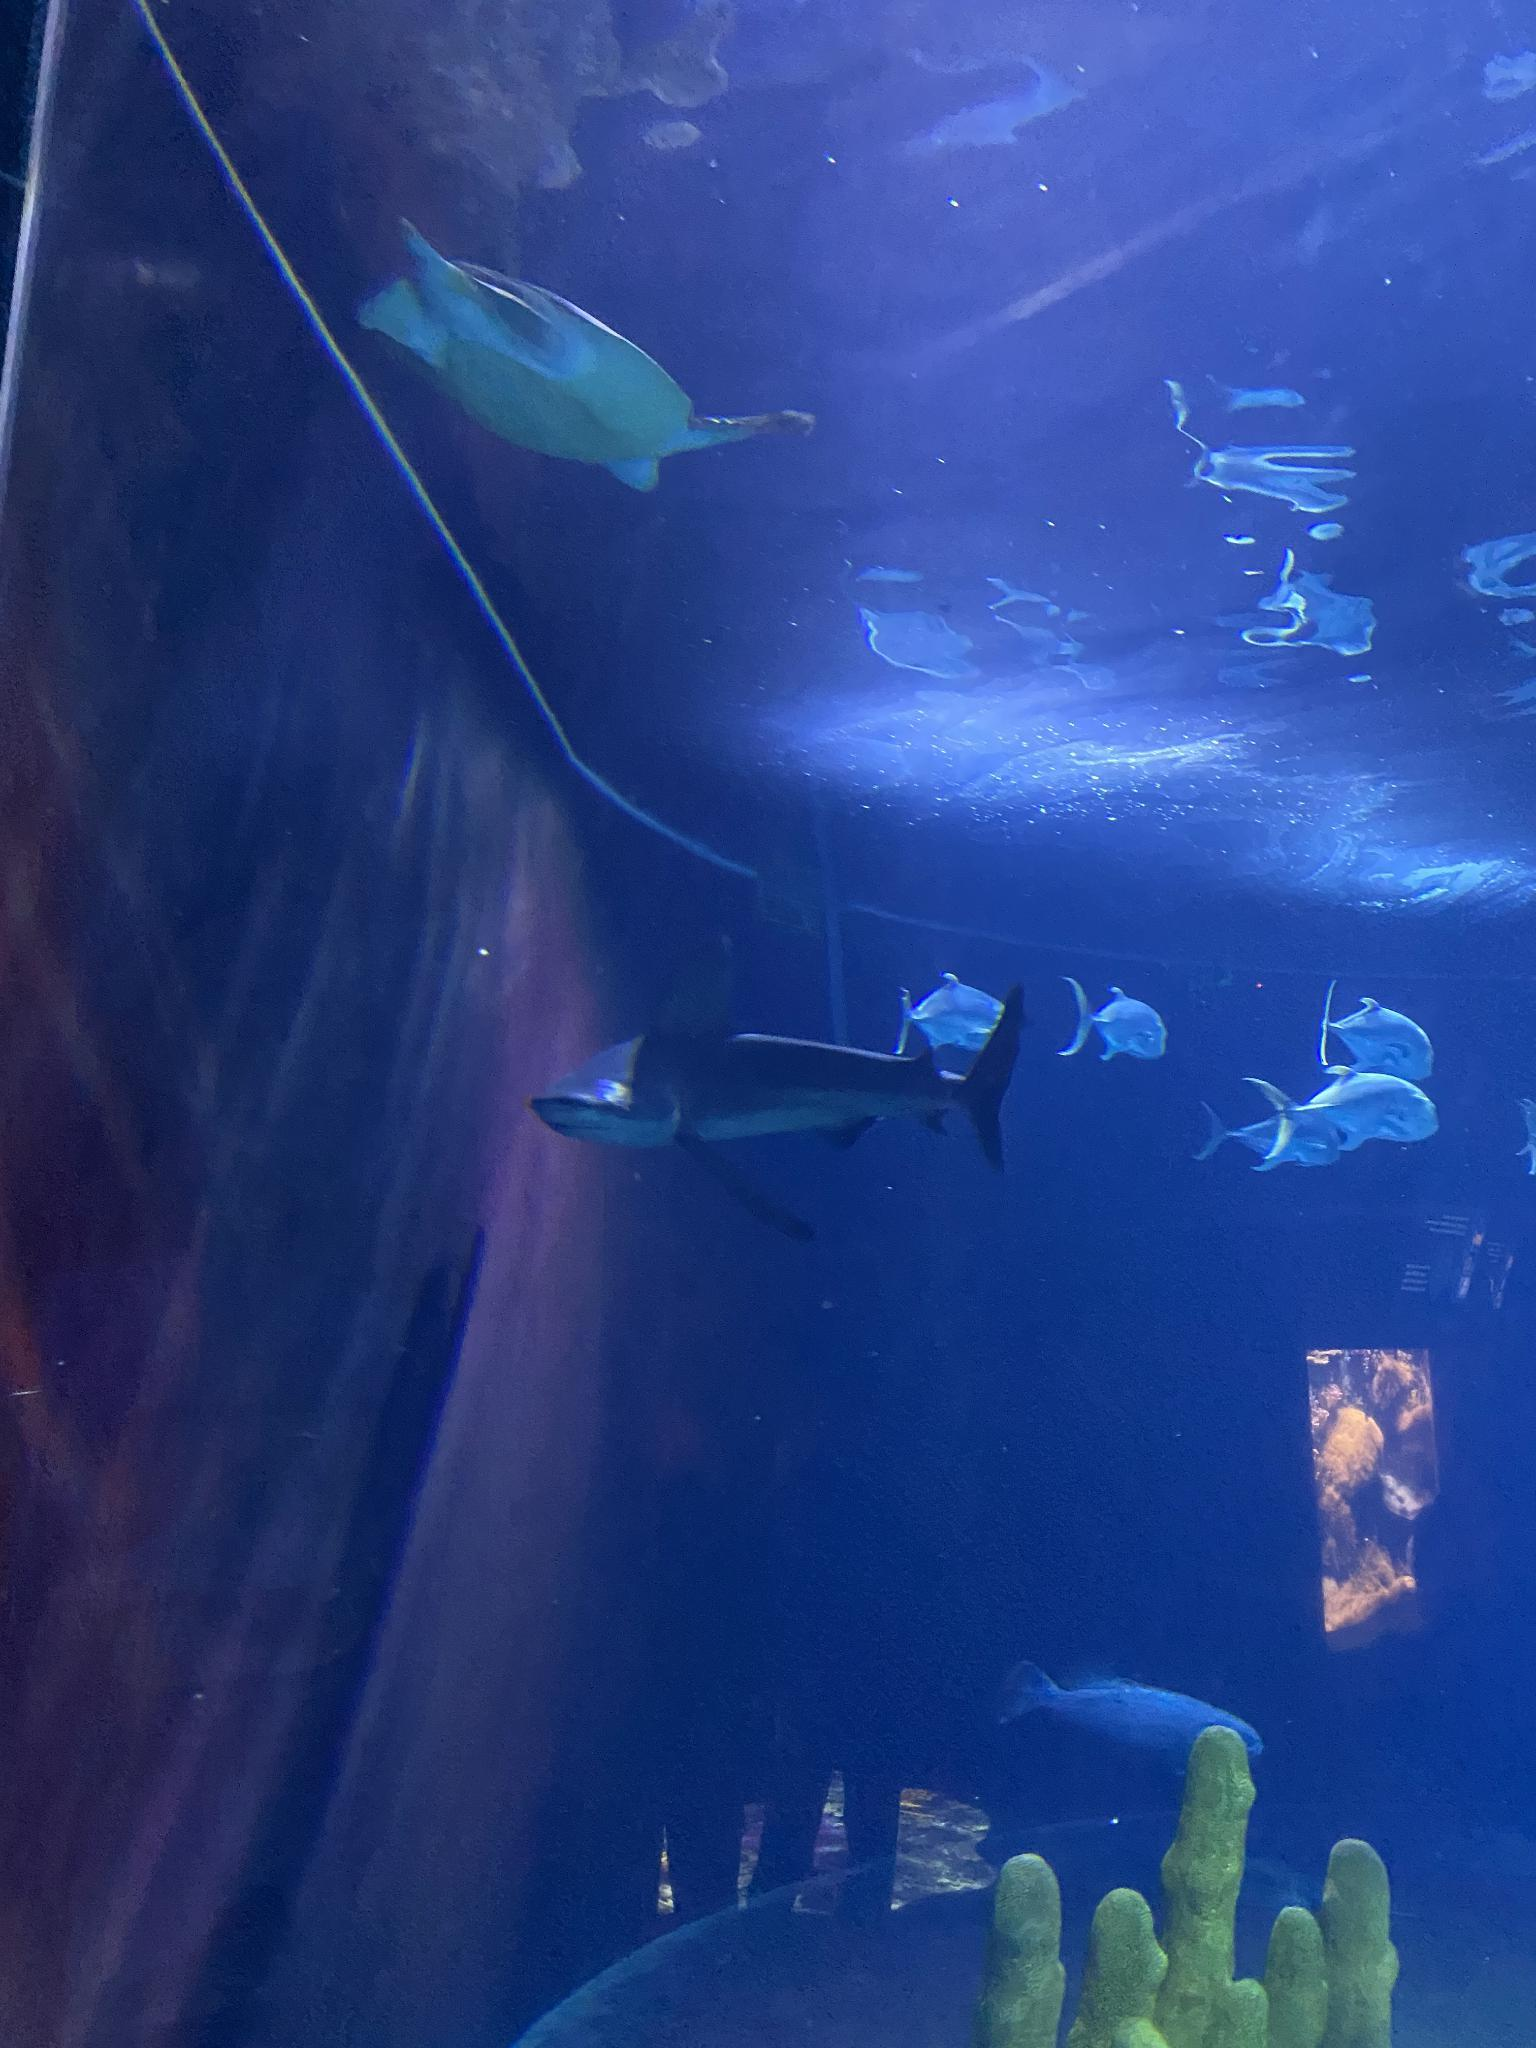fish: (995, 1658, 1263, 1779), (1241, 1064, 1439, 1159), (1321, 980, 1434, 1080), (1192, 1101, 1341, 1172), (1055, 976, 1167, 1059), (892, 972, 1005, 1055)
shark: (526, 926, 1033, 1247)
